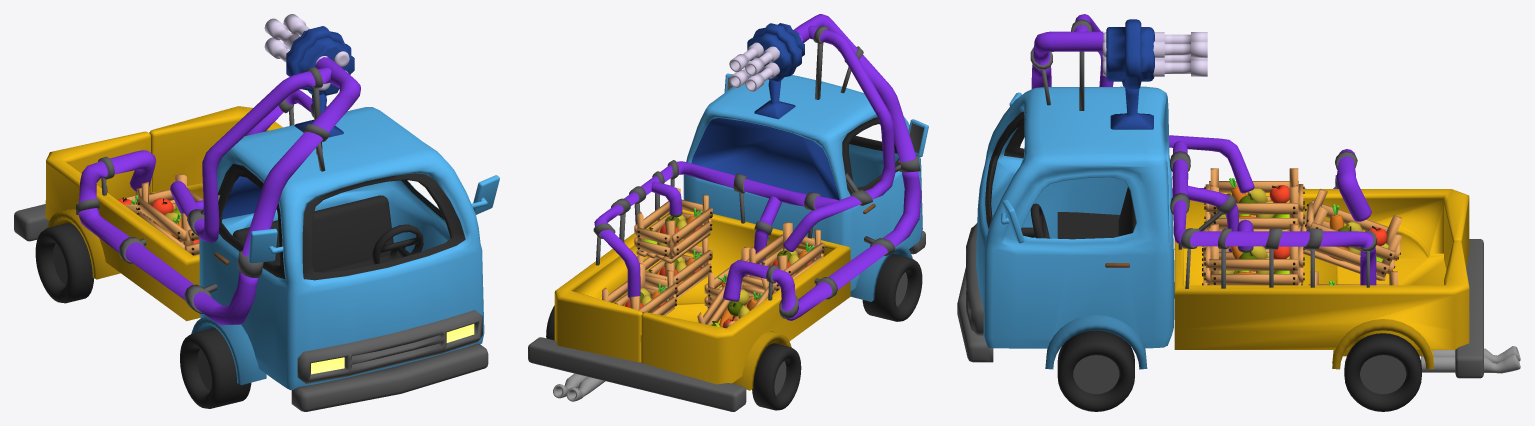
File: Warcar.fbx
3 renders of one model, left to right at view 1: azimuth 30°, elevation 25°; view 2: azimuth 150°, elevation 25°; view 3: azimuth 270°, elevation 25°, orthographic. The views are drawn at different scales.
Parts seen in each view (by area): view 1: Kabin 01, Kabin 02, Kablo, Front Headlight 01, Aksesuar, Kablo 02, Lastik 01, Silah, Lastik 03, Meyve Kasaları, Çamurluk.001, Çamurluk (+1 smaller); view 2: Kabin 02, Kabin 01, Kablo, Meyve Kasaları, Silah, Kablo 02, Lastik 01, Lastik 03, Çamurluk, Çamurluk.001, Exhaust 01, Meyve 06 (+5 smaller); view 3: Kabin 01, Kabin 02, Kablo, Meyve Kasaları, Silah, Lastik 02, Lastik 04, Aksesuar, Kablo 02, Front Headlight 01, Çamurluk.001, Çamurluk (+5 smaller).
Boxes of the visible parts, x1,y1,x2,y2 form: Kabin 01: (199, 107, 484, 390); Kabin 02: (14, 106, 282, 321); Kablo: (76, 90, 327, 325); Front Headlight 01: (291, 310, 488, 411); Aksesuar: (214, 175, 499, 272); Kablo 02: (212, 57, 360, 173); Lastik 01: (180, 328, 251, 408); Silah: (264, 14, 354, 95); Lastik 03: (35, 223, 93, 303); Meyve Kasaları: (101, 173, 203, 255); Çamurluk.001: (191, 316, 266, 385); Çamurluk: (47, 209, 120, 279); Kabin 02: (528, 209, 850, 411); Kabin 01: (683, 73, 922, 290); Kablo: (593, 82, 921, 320); Meyve Kasaları: (602, 188, 824, 327); Silah: (729, 23, 804, 91); Kablo 02: (745, 14, 887, 239); Lastik 01: (862, 254, 922, 321); Lastik 03: (752, 343, 801, 410); Çamurluk: (731, 331, 791, 390); Çamurluk.001: (850, 244, 912, 301); Exhaust 01: (553, 373, 605, 401); Meyve 06: (710, 289, 762, 328); Kabin 01: (976, 86, 1174, 348); Kabin 02: (1174, 189, 1483, 378); Kablo: (1031, 53, 1376, 288); Meyve Kasaları: (1202, 168, 1401, 285); Silah: (1102, 19, 1207, 89); Lastik 02: (1057, 330, 1134, 411); Lastik 04: (1344, 333, 1421, 411); Aksesuar: (1001, 92, 1136, 267); Kablo 02: (1030, 14, 1221, 249); Front Headlight 01: (957, 223, 993, 362); Çamurluk.001: (1045, 315, 1147, 369); Çamurluk: (1332, 319, 1433, 369).
Size of the model in its own units: 274 by 321 by 499.
